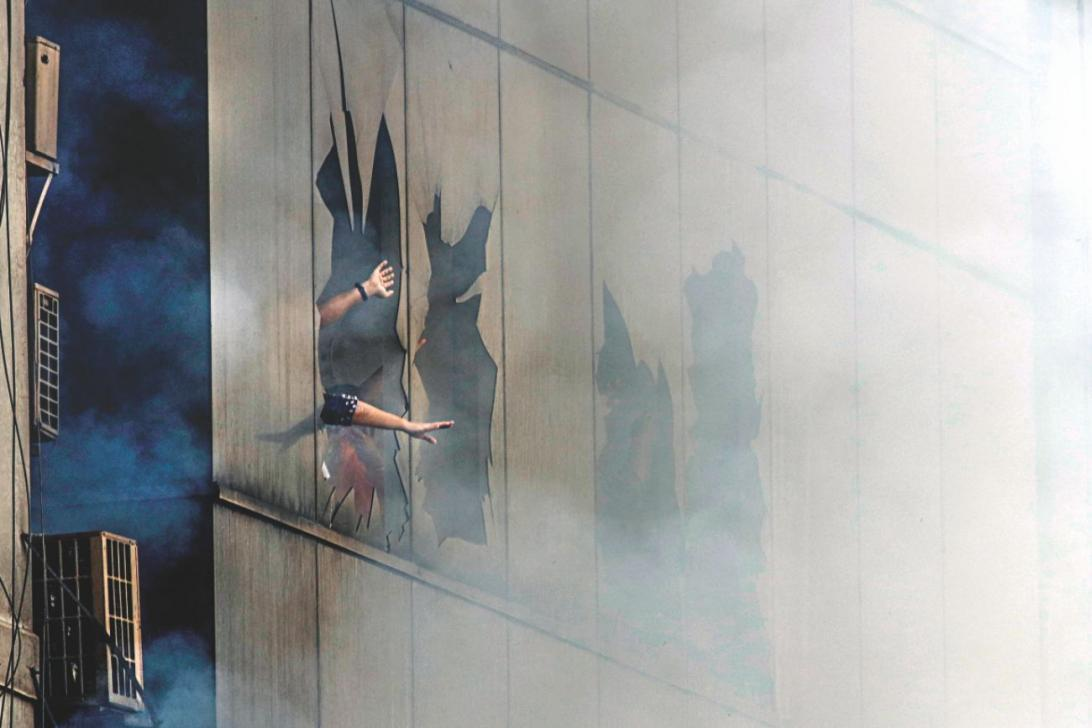smoke: (642, 0, 1092, 728), (349, 472, 631, 728), (25, 393, 215, 551), (36, 209, 239, 356), (53, 24, 209, 138), (104, 640, 245, 728), (28, 148, 112, 208), (325, 210, 377, 292), (327, 314, 388, 350)
